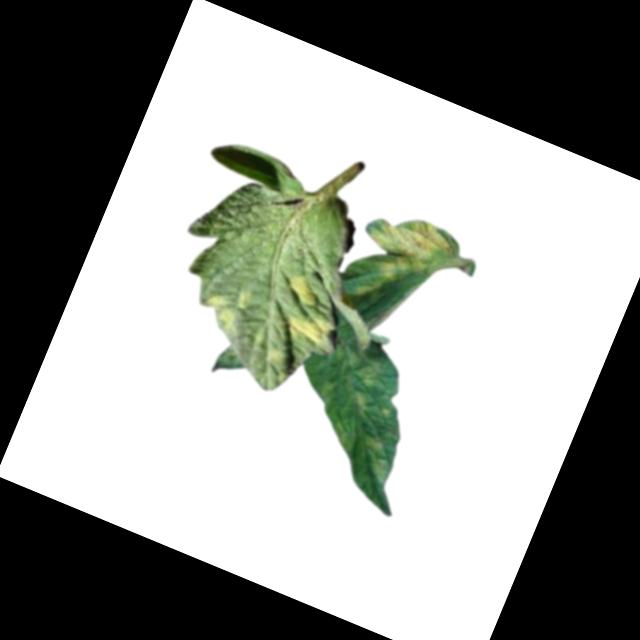Leaf_Mold: (347, 202, 454, 320), (197, 276, 254, 339), (345, 364, 399, 424), (347, 431, 401, 485), (281, 309, 337, 355), (279, 267, 324, 312)
